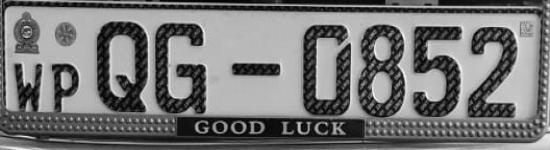-: (228, 60, 283, 85)
0: (297, 21, 355, 116)
2: (465, 21, 523, 121)
5: (409, 21, 465, 119)
8: (355, 17, 408, 118)
G: (153, 15, 216, 118)
P: (50, 61, 84, 115)
Q: (93, 16, 152, 115)
W: (12, 58, 44, 115)
